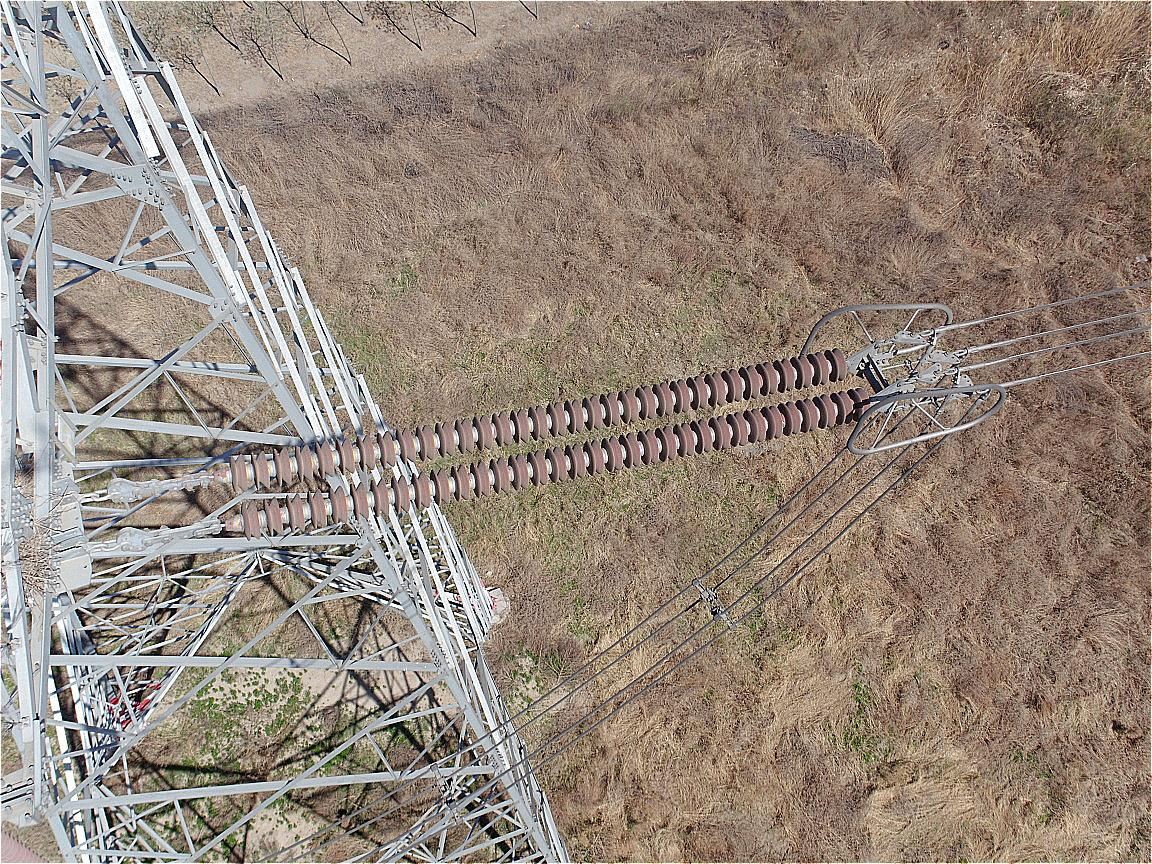insultor2: (200, 341, 890, 538)
